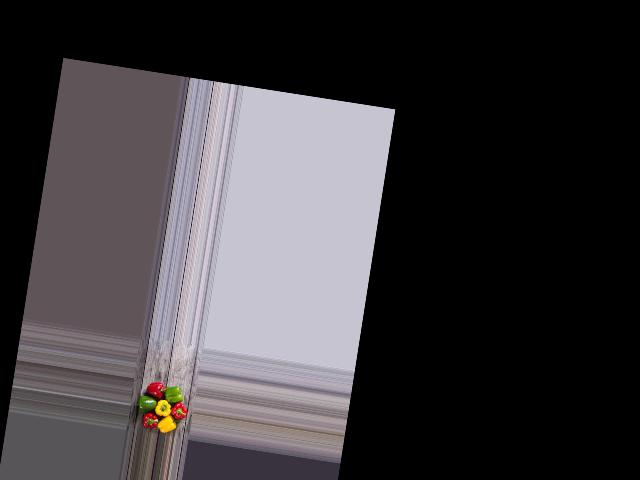bell_pepper: (140, 411, 162, 433)
